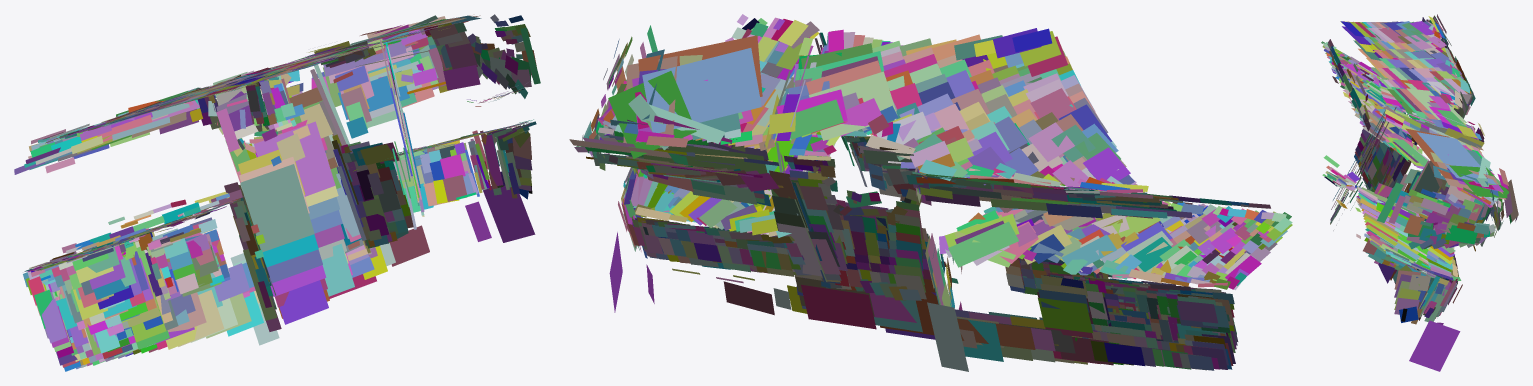
Rendered from planarSplat_rawPrims_normalized_colorPrim.glb.
The picture shows the model from 3 angles, left to right: view 1: azimuth 30°, elevation 25°; view 2: azimuth 150°, elevation 25°; view 3: azimuth 270°, elevation 25°; orthographic projection. The views are drawn at different scales.
Visible parts, largest first — view 1: planarSplat_rawPrims_normalized_colorPrim.ply; view 2: planarSplat_rawPrims_normalized_colorPrim.ply; view 3: planarSplat_rawPrims_normalized_colorPrim.ply.
Part boxes in pixels (left/top/right/bottom): planarSplat_rawPrims_normalized_colorPrim.ply: left=14, top=14, right=540, bottom=371; planarSplat_rawPrims_normalized_colorPrim.ply: left=569, top=14, right=1292, bottom=371; planarSplat_rawPrims_normalized_colorPrim.ply: left=1321, top=14, right=1518, bottom=371.
Bounding box in the file's own units: 4.09 × 2.12 × 1.63.
